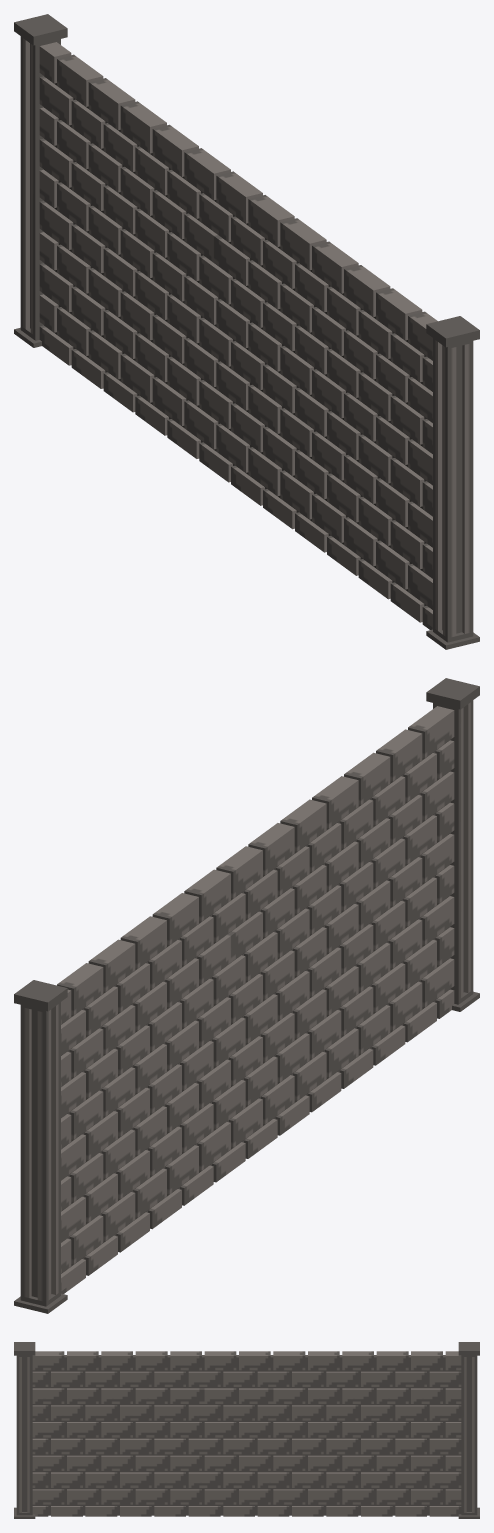
File: fw_titans_wall-0.fbx
3 views of the same model, one above another, from view 1: azimuth 30°, elevation 25°; view 2: azimuth 150°, elevation 25°; view 3: azimuth 270°, elevation 25° (orthographic). The views are drawn at different scales.
Parts seen in each view (by area): view 1: fw_titans_wall-0; view 2: fw_titans_wall-0; view 3: fw_titans_wall-0.
Boxes of the visible parts, bbox=[...] form: fw_titans_wall-0: bbox=[14, 14, 479, 649]; fw_titans_wall-0: bbox=[14, 678, 479, 1313]; fw_titans_wall-0: bbox=[14, 1342, 479, 1518].
Bounding box in the file's own units: 8 × 70 × 176.
